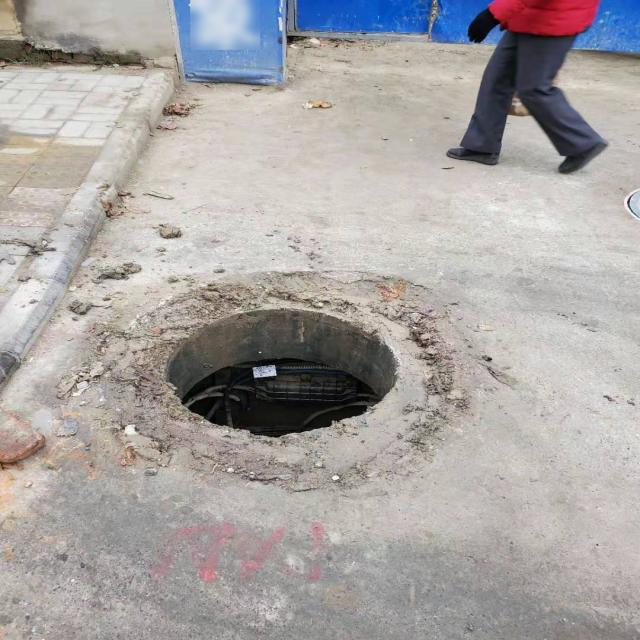Uncovered: (136, 288, 444, 465)
